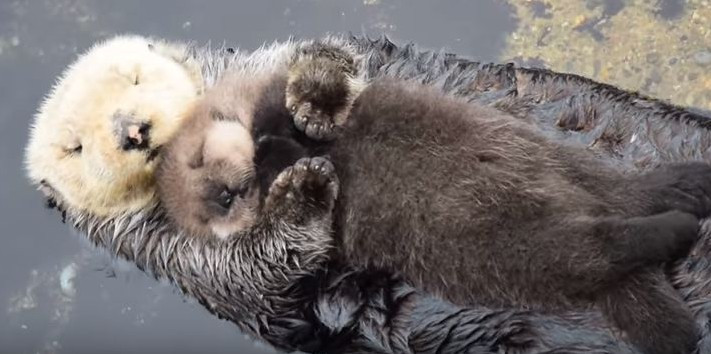otter: (15, 3, 711, 338)
